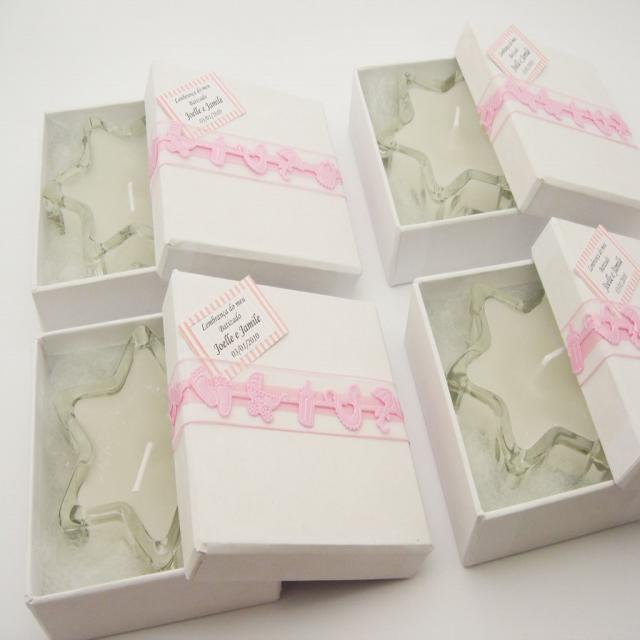Box: (25, 268, 436, 640), (29, 56, 362, 330), (404, 217, 640, 569), (348, 21, 640, 286)
